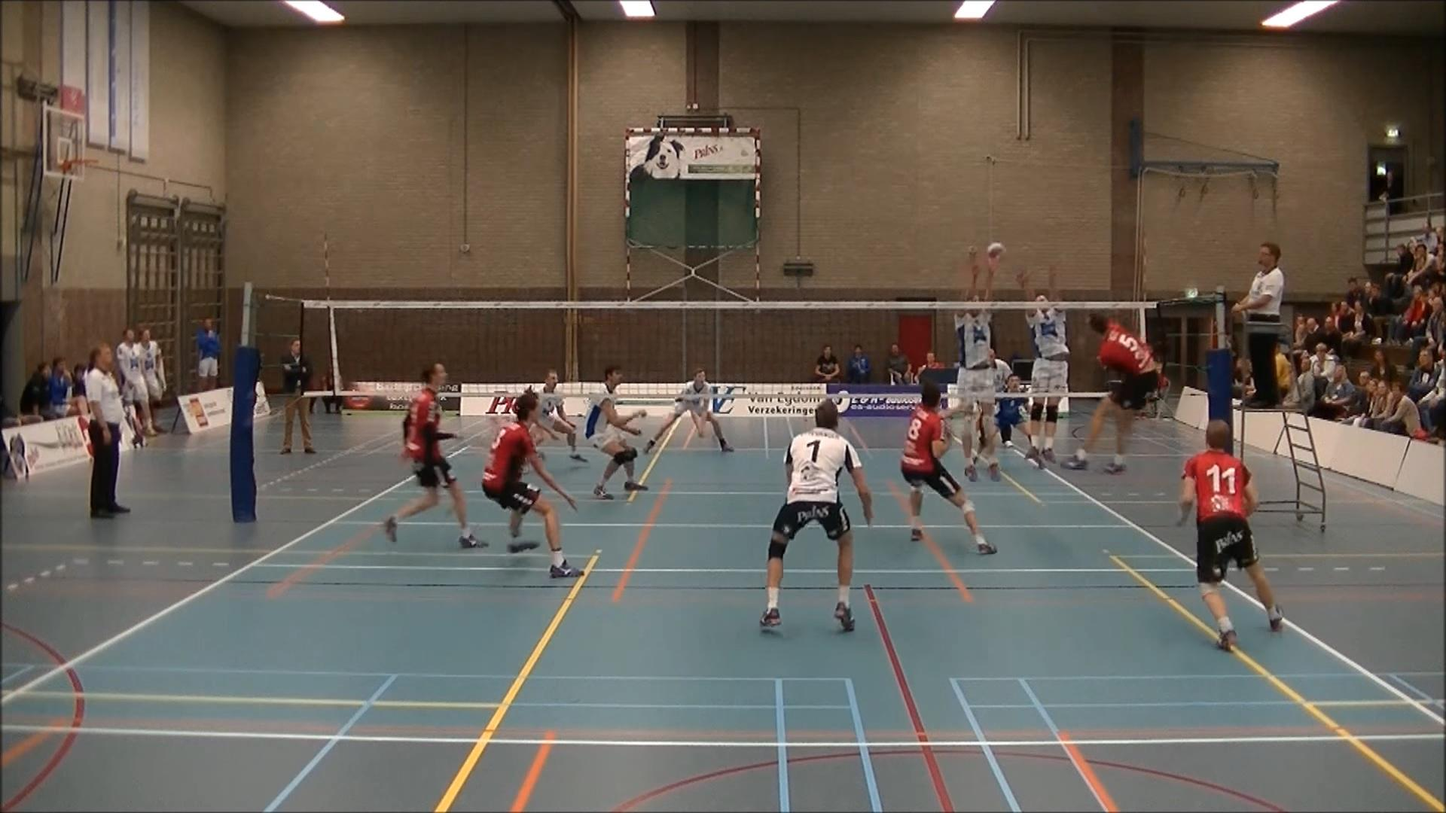attacco: (1066, 307, 1171, 479)
muro: (949, 243, 1013, 490), (1018, 256, 1070, 471)
